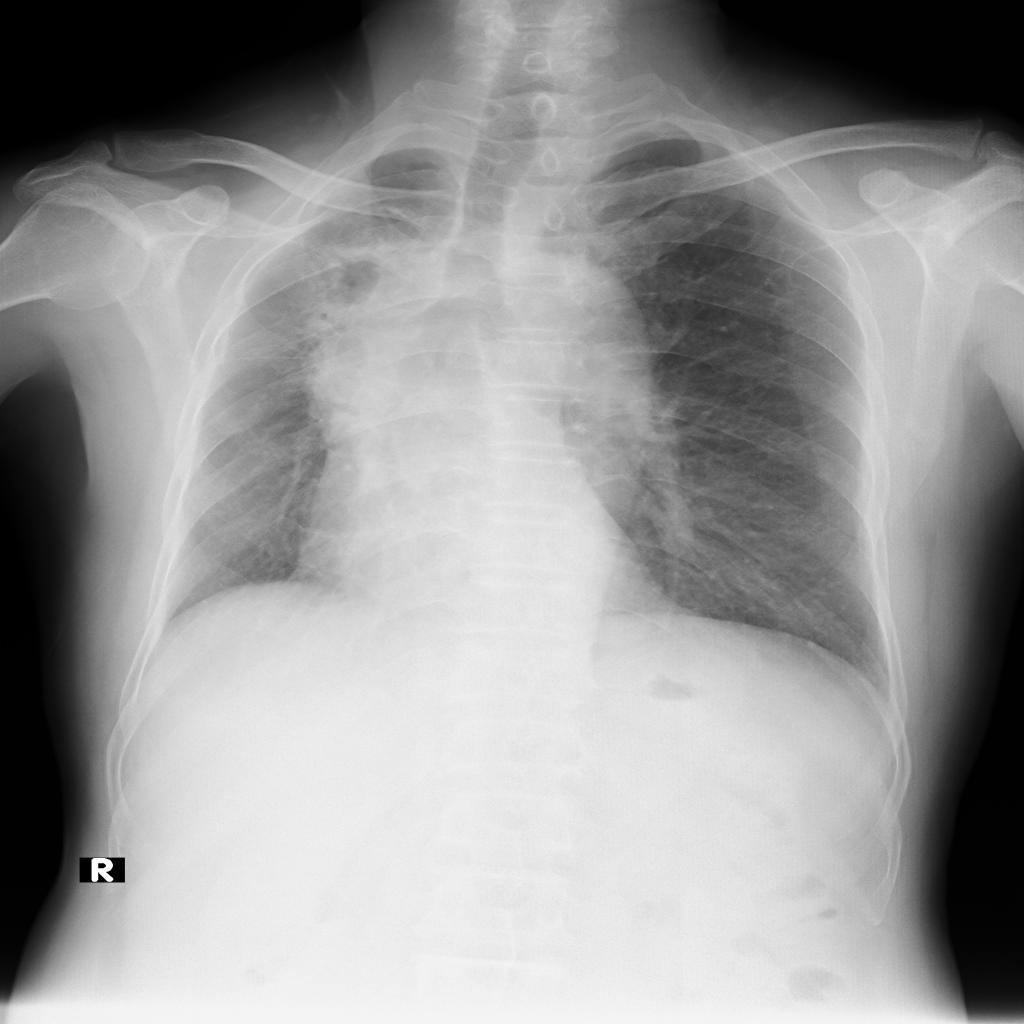Nodule: (306, 244, 432, 441)
